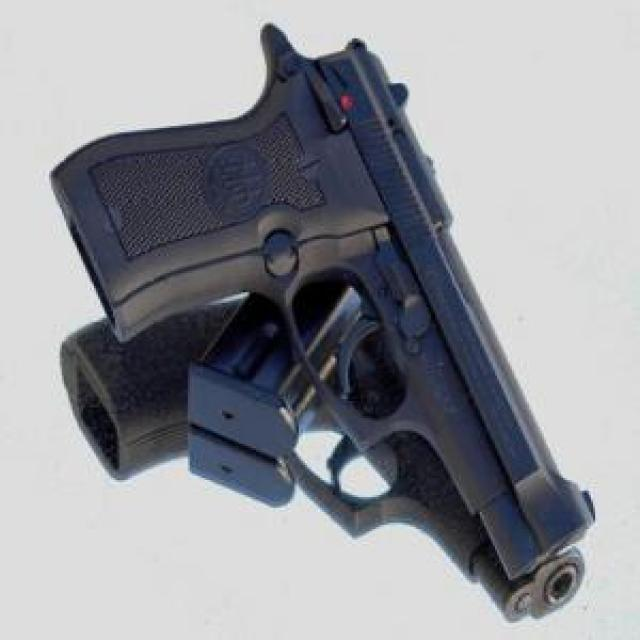pistol: (47, 17, 593, 620)
